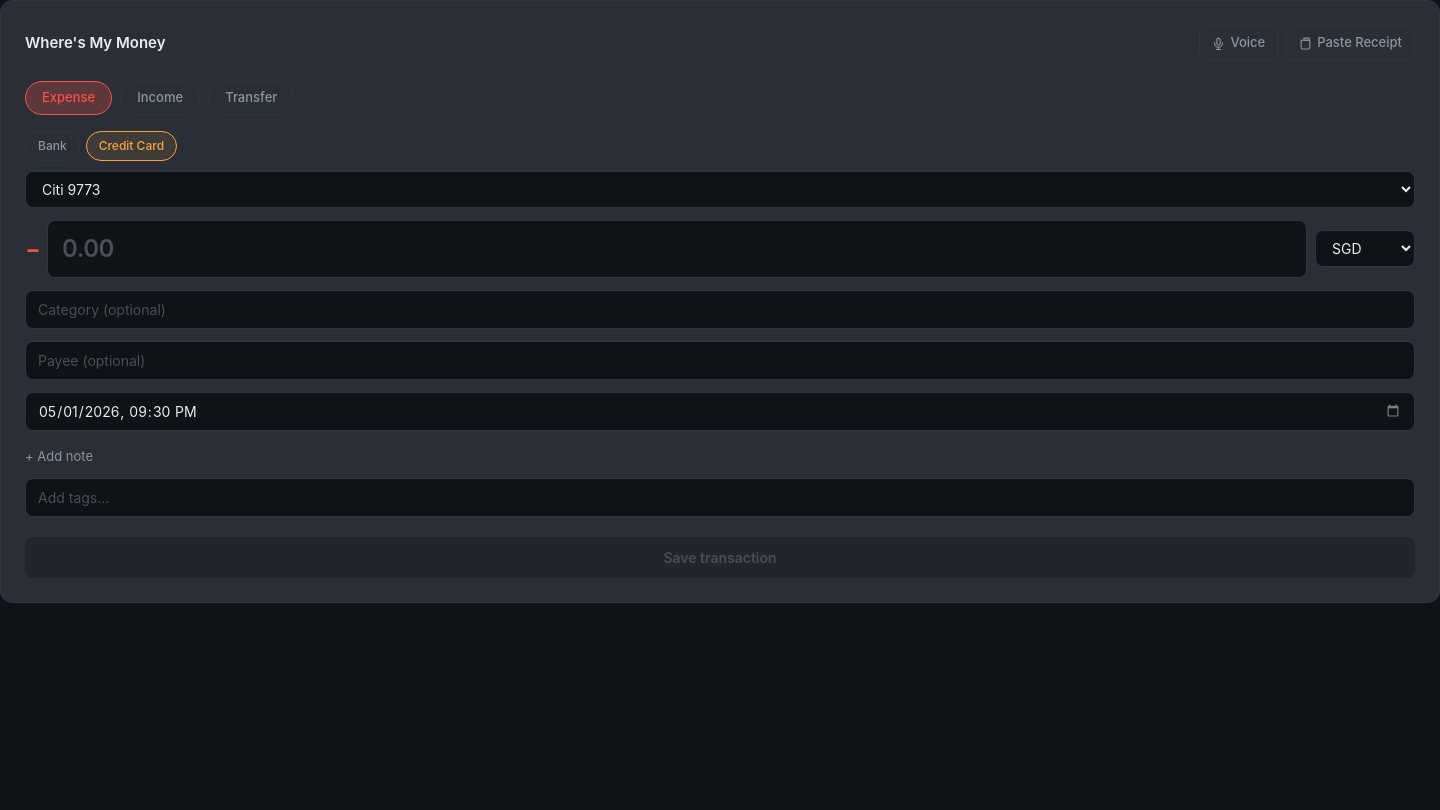
BUG-028: searchable picker respects parent/child hierarchy › searching "shopping" does not show Food > Dining Out
Type "shopping" into the field with test id "category-search-input".
click(720, 309); type("shopping")  # box left=25, top=290, right=1415, bottom=328
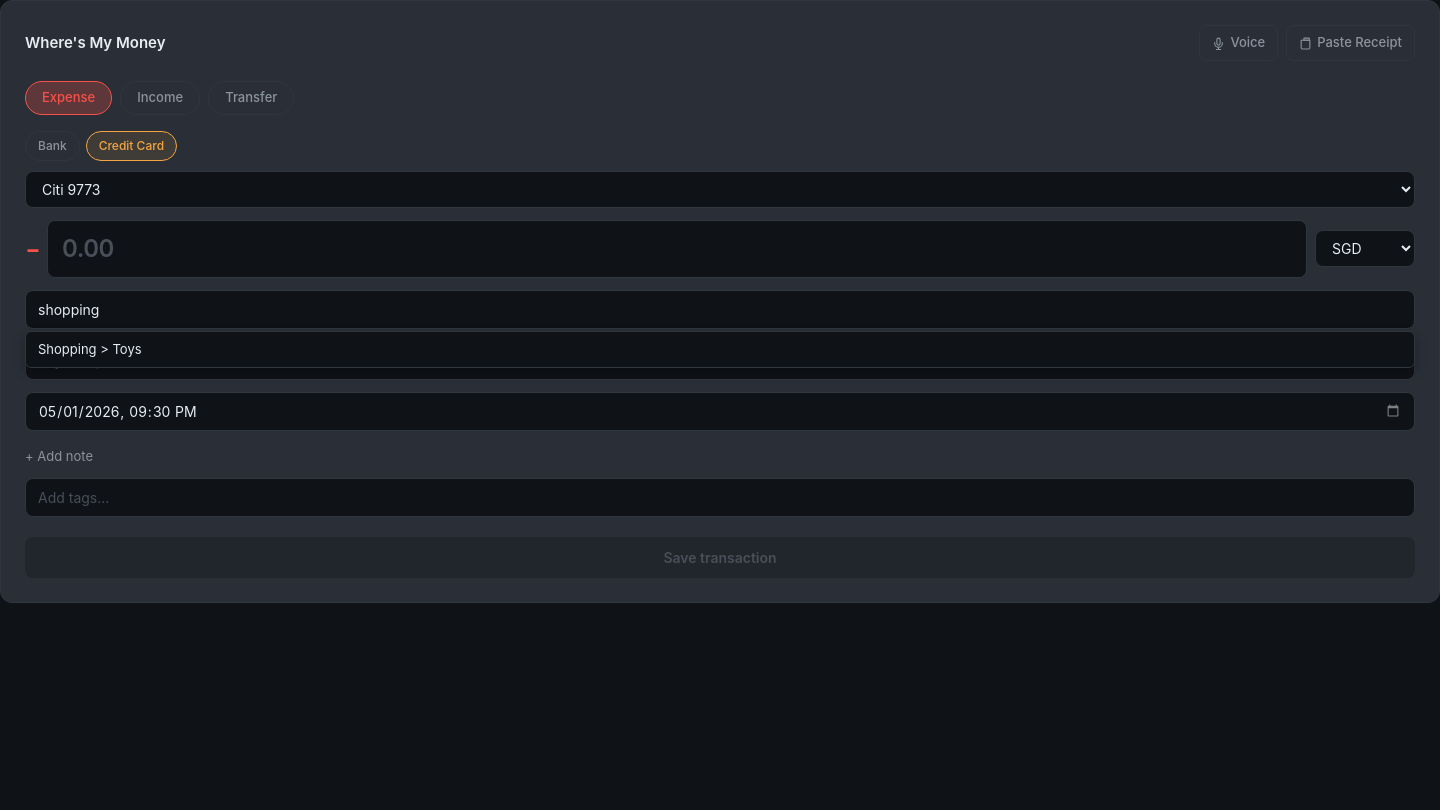
Result: the text "Shopping > Toys" is shown at left=38, top=340, right=142, bottom=356
Result: the text with test id "category-option-cat-dining" is gone
